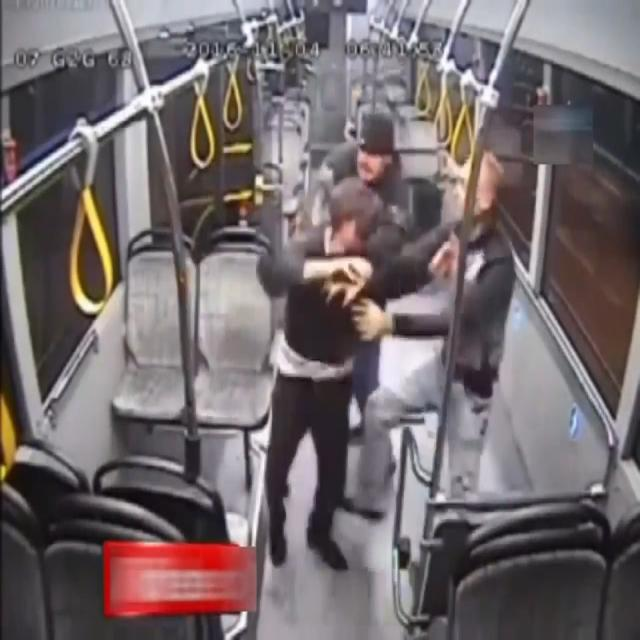fight: (265, 147, 513, 583), (256, 106, 409, 578)
